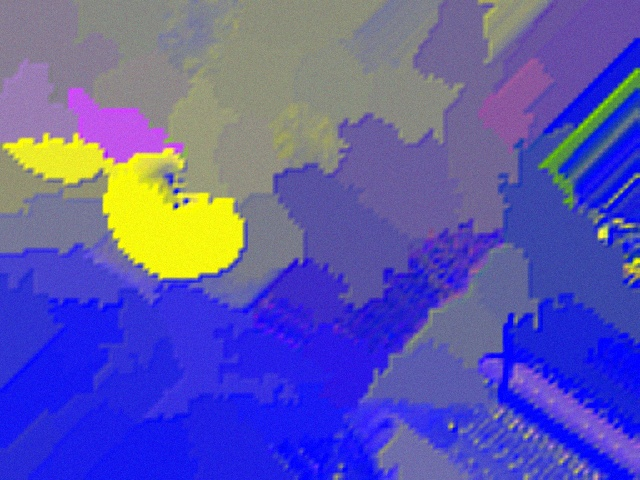eight: (148, 163, 219, 221)
